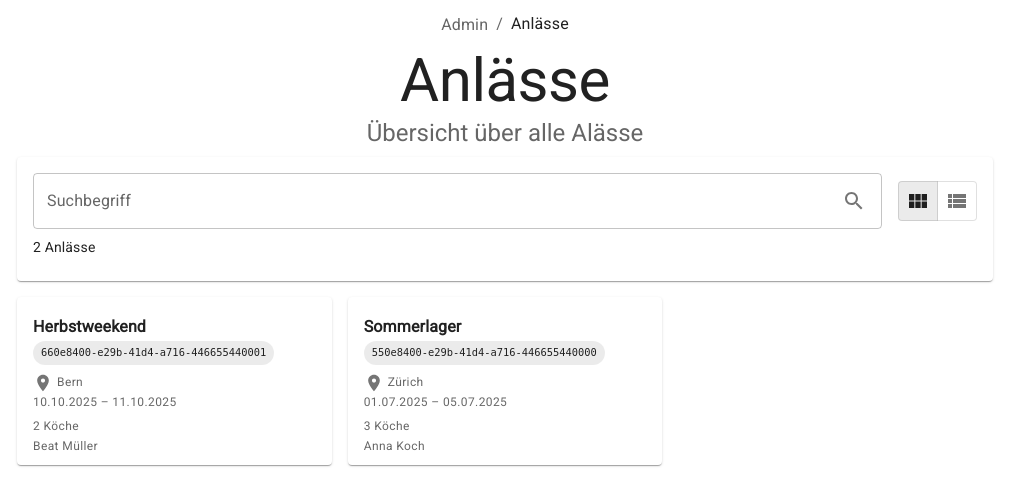
Test: 3 – Suche filtert Events nach Name
Expected: the heading "Sommerlager" is shown, [364,317,461,336]
In the field: x=431, y=201 [33,173,829,229], type "Herbst"
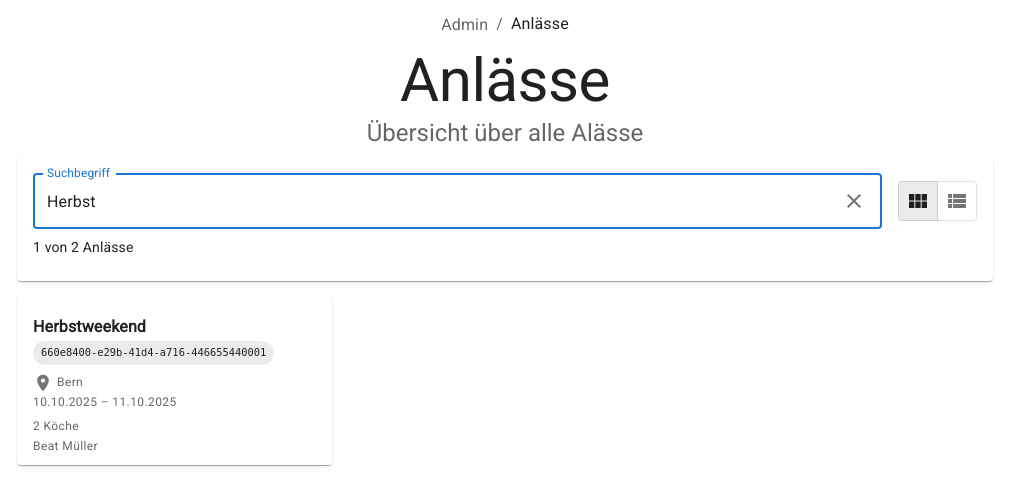
Expected: the heading "Herbstweekend" is shown, [33,317,146,336]
Result: the button "Sommerlager" is gone
